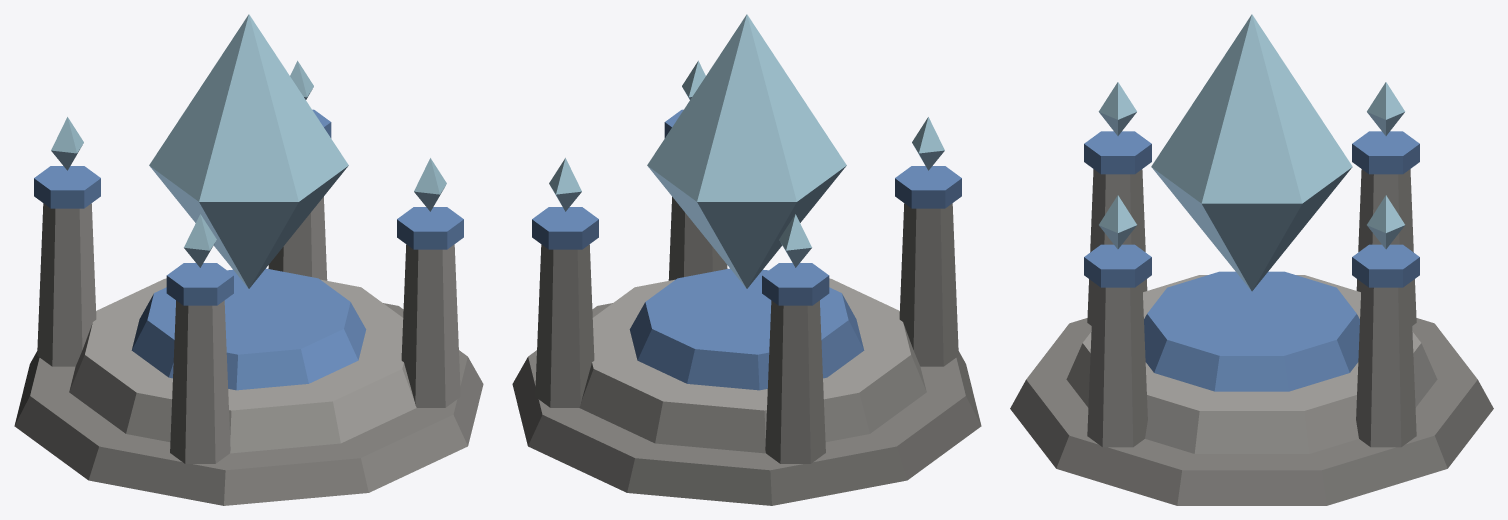
File: nexus_blue.glb
The picture shows the model from 3 angles, left to right: view 1: azimuth 30°, elevation 25°; view 2: azimuth 150°, elevation 25°; view 3: azimuth 270°, elevation 25°; orthographic projection.
Size of the model in its own units: 5.71 by 5.4 by 6.
